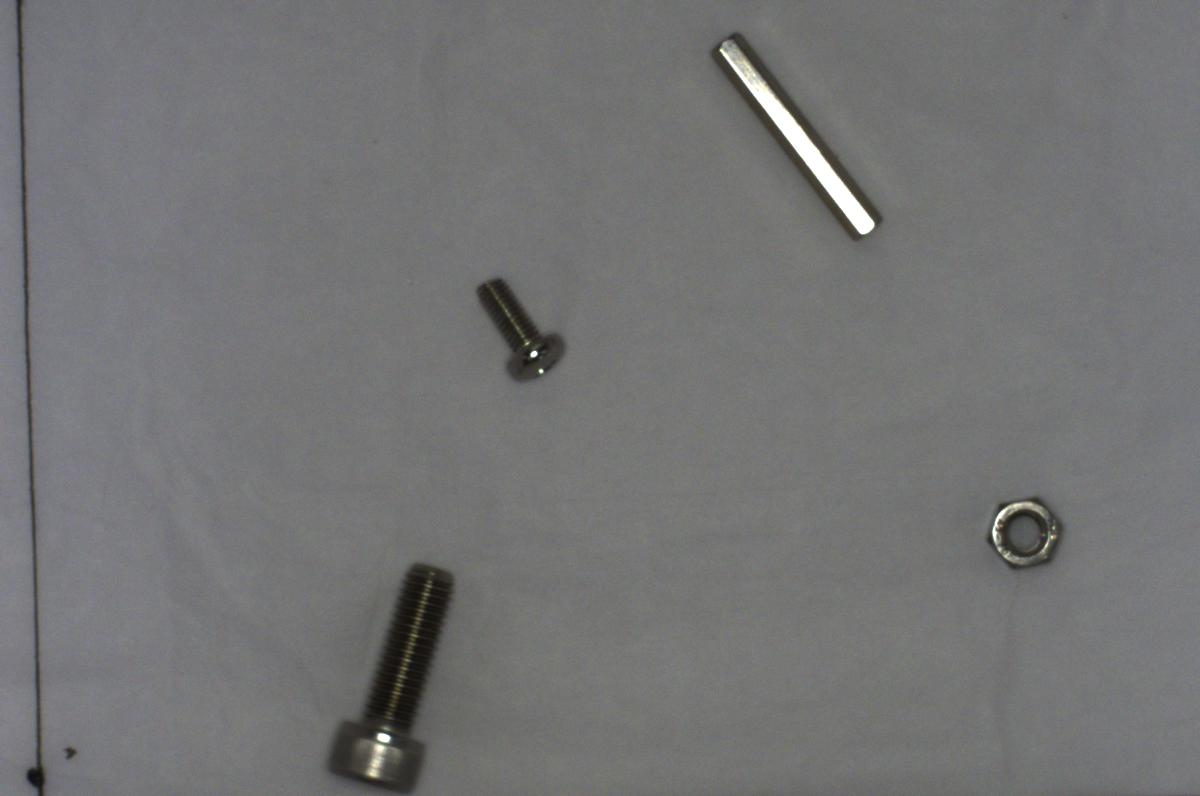Double hexagonal column: (702, 23, 888, 243)
Hexagon nut: (985, 485, 1067, 579)
Hexagon screw: (304, 545, 464, 794)
Round head screw: (462, 265, 573, 387)
